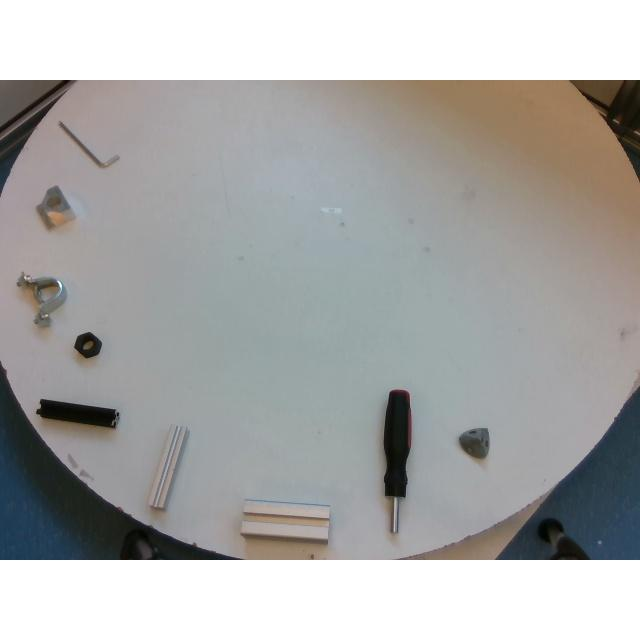F20_20_B: (36, 399, 120, 427)
F20_20_G: (148, 424, 188, 508)
Housing: (17, 272, 67, 324)
M20: (75, 332, 102, 356)
S40_40_G: (242, 498, 331, 542)
